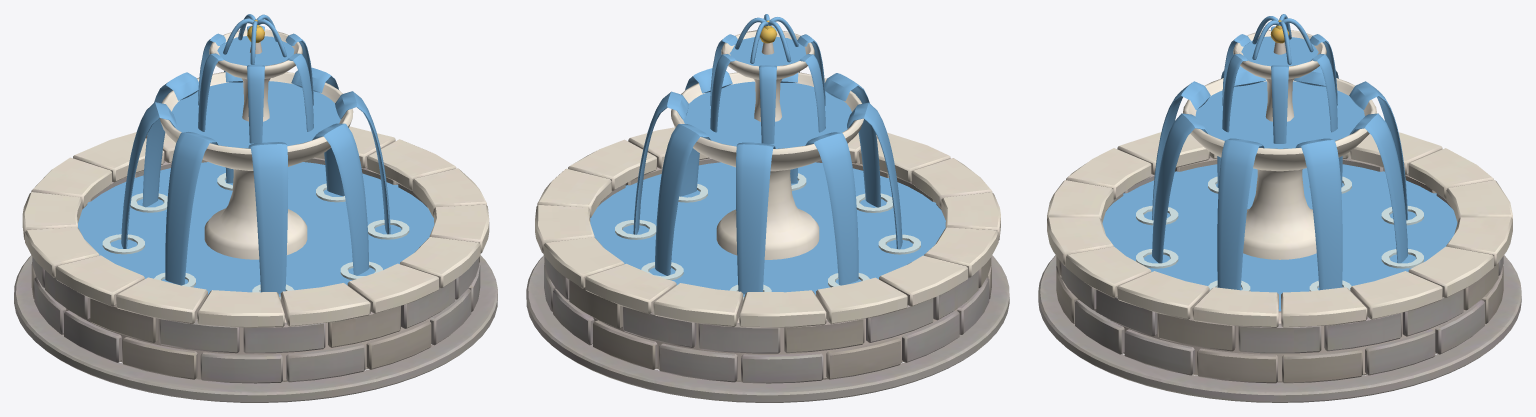
Rendered from arch_fountain.glb.
3 views of the same model, side by side, from view 1: azimuth 30°, elevation 25°; view 2: azimuth 150°, elevation 25°; view 3: azimuth 270°, elevation 25° (orthographic).
Visible parts, largest first — view 1: fountain_body, fountain_water; view 2: fountain_body, fountain_water; view 3: fountain_body, fountain_water.
Part boxes in pixels (left/top/right/bottom): fountain_body: left=14, top=19, right=497, bottom=402; fountain_water: left=78, top=14, right=434, bottom=299; fountain_body: left=526, top=20, right=1009, bottom=402; fountain_water: left=590, top=14, right=945, bottom=300; fountain_body: left=1038, top=20, right=1521, bottom=402; fountain_water: left=1102, top=14, right=1457, bottom=311.
Bounding box in the file's own units: 3.38 × 2.18 × 3.38.
Materials: 3 (1 with a texture image).
